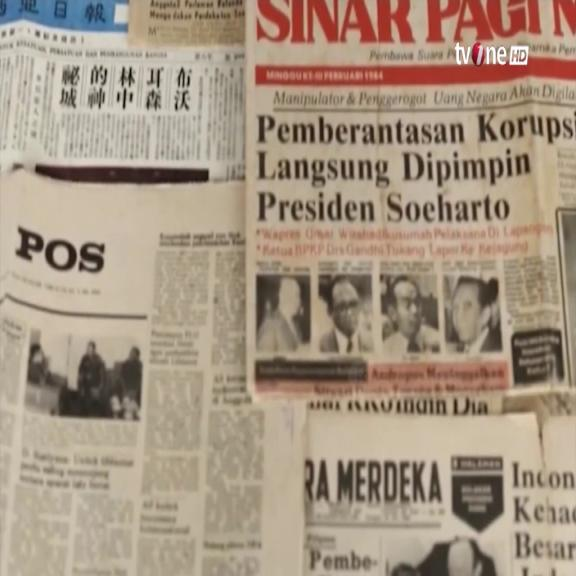Kertas: (243, 0, 574, 402), (1, 174, 270, 576)
